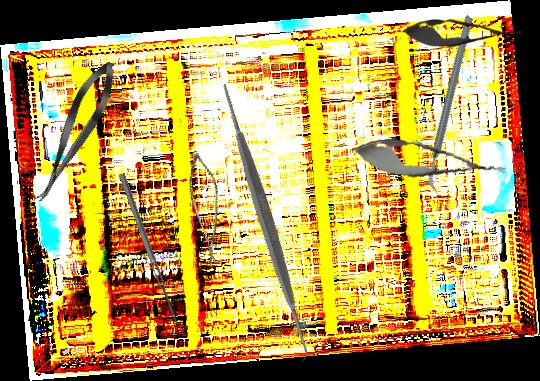Chopper: (368, 13, 535, 195)
Micro Scissor: (26, 55, 125, 209), (349, 132, 509, 189), (173, 150, 242, 267), (403, 18, 522, 48)
Spatula Surgical: (115, 70, 416, 371), (118, 170, 188, 333)
